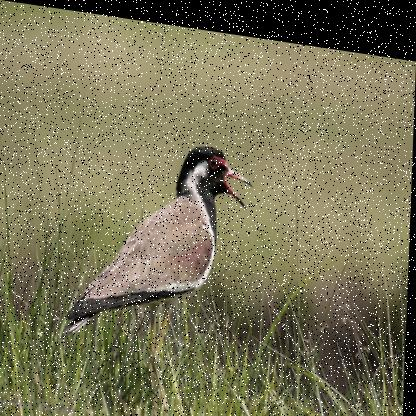Burung: (66, 123, 254, 415)
